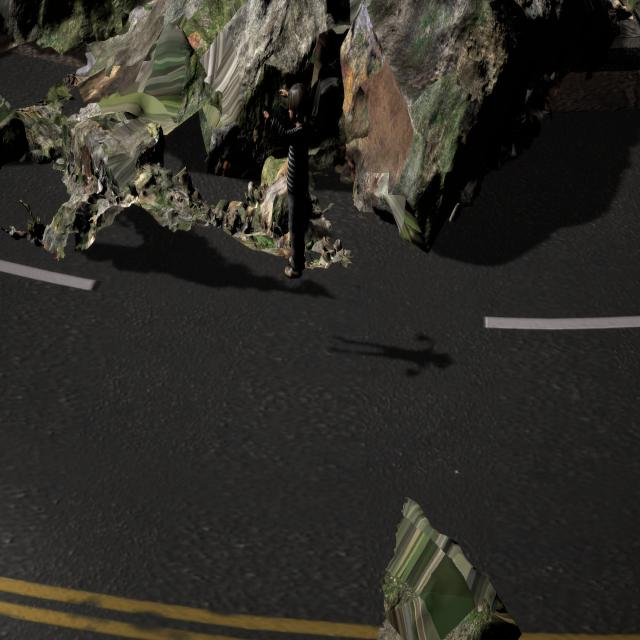Human: (260, 77, 316, 293)
